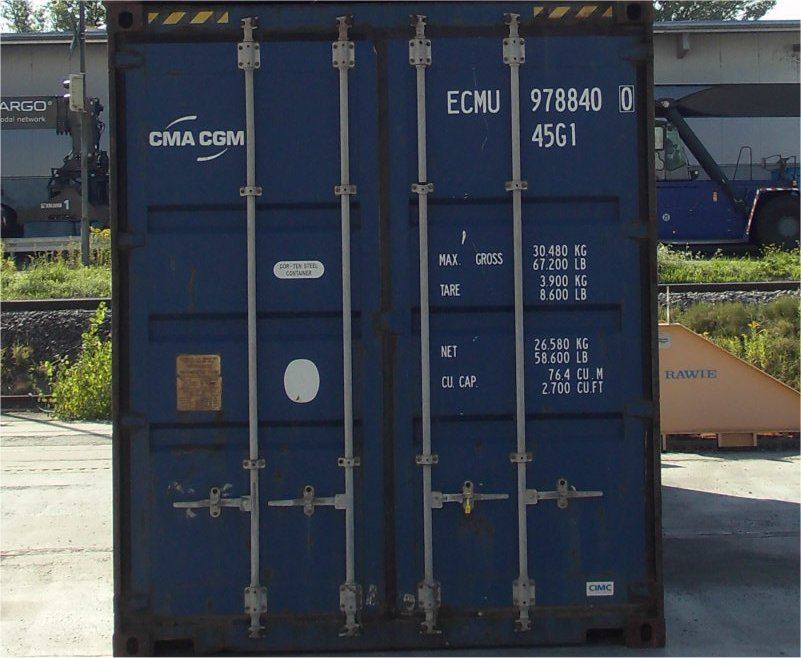container_door: (110, 2, 667, 645)
